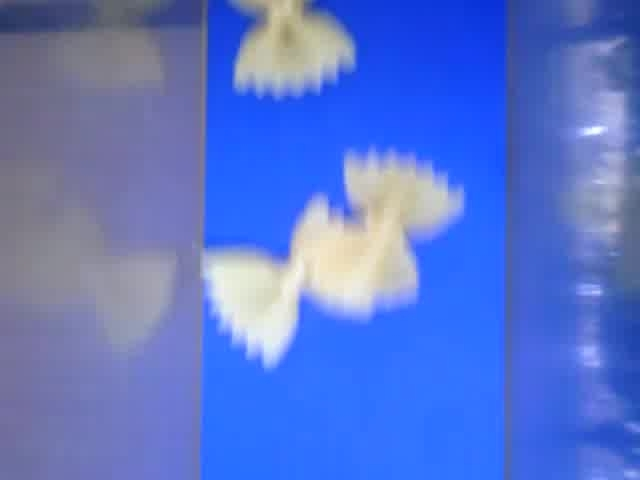farfalle: (201, 192, 377, 367), (319, 150, 466, 309), (219, 1, 362, 101)
